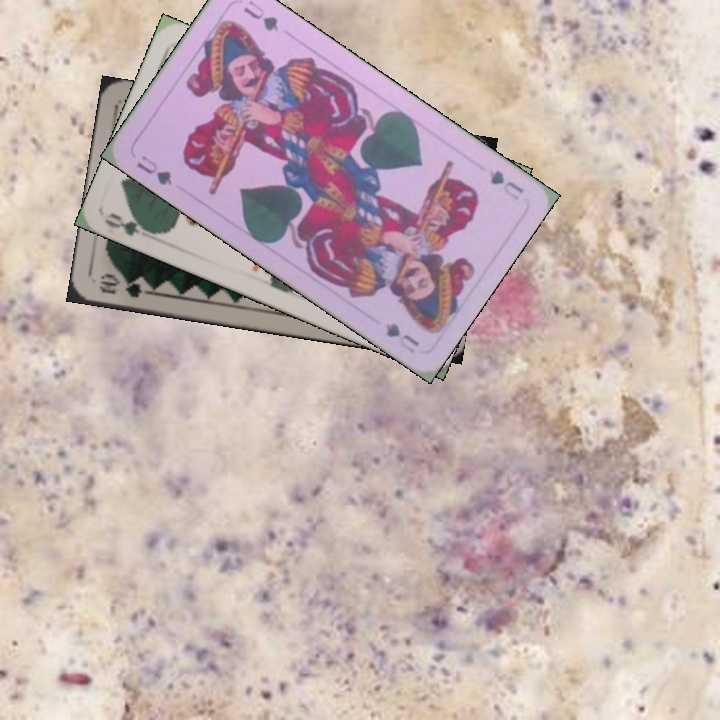G10: (94, 271, 153, 301)
GO: (102, 208, 162, 239)
GU: (132, 151, 177, 189), (485, 166, 527, 203)
